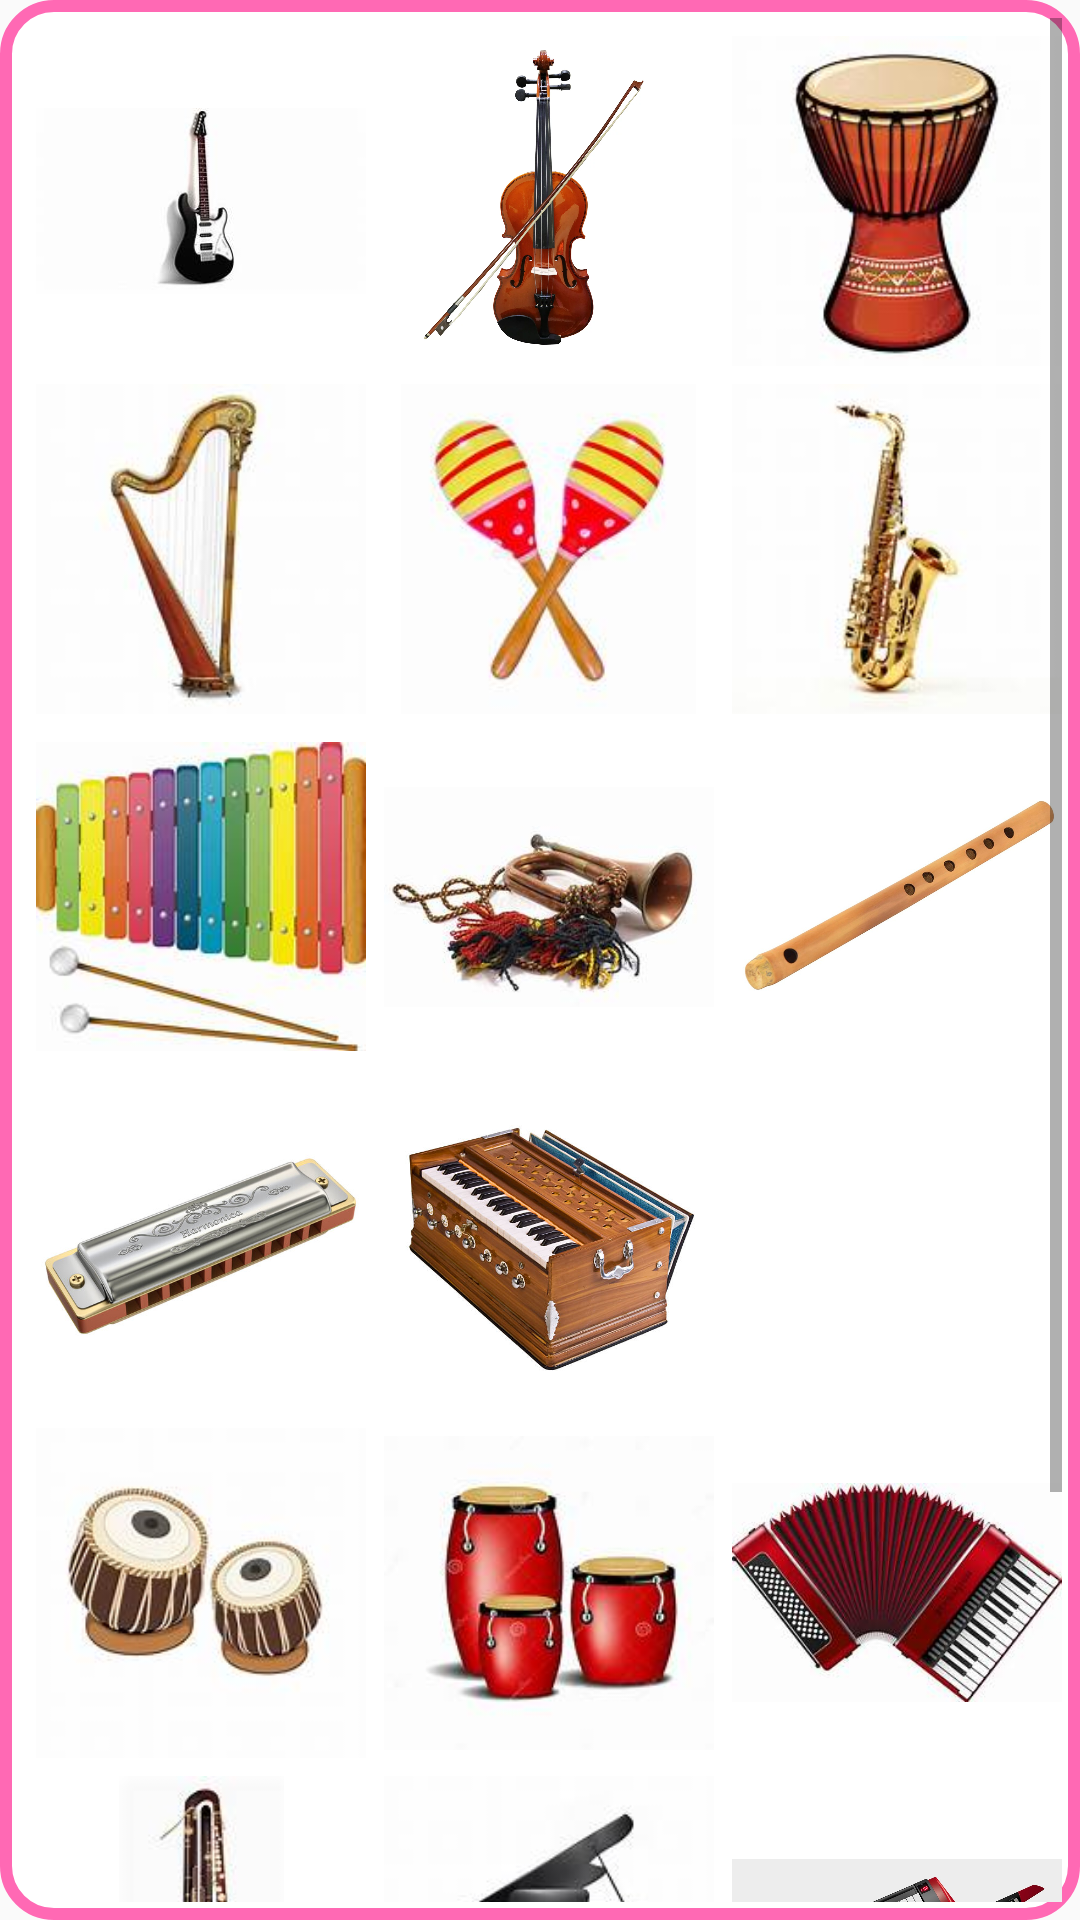

Icon click points for this 1080px×1920px phone screenshot, format [x,y]:
Accordion: [897,1592]
Bugle: [542,913]
Congas: [554,1593]
Djembe: [897,204]
Flute: [903,897]
Glockenspiel: [201,896]
Guitar: [196,196]
Harmonica: [200,1246]
Harmonium: [551,1249]
Harp: [183,546]
Maracas: [548,551]
Saxophone: [898,550]
Tabla: [195,1581]
violin: [534,197]
